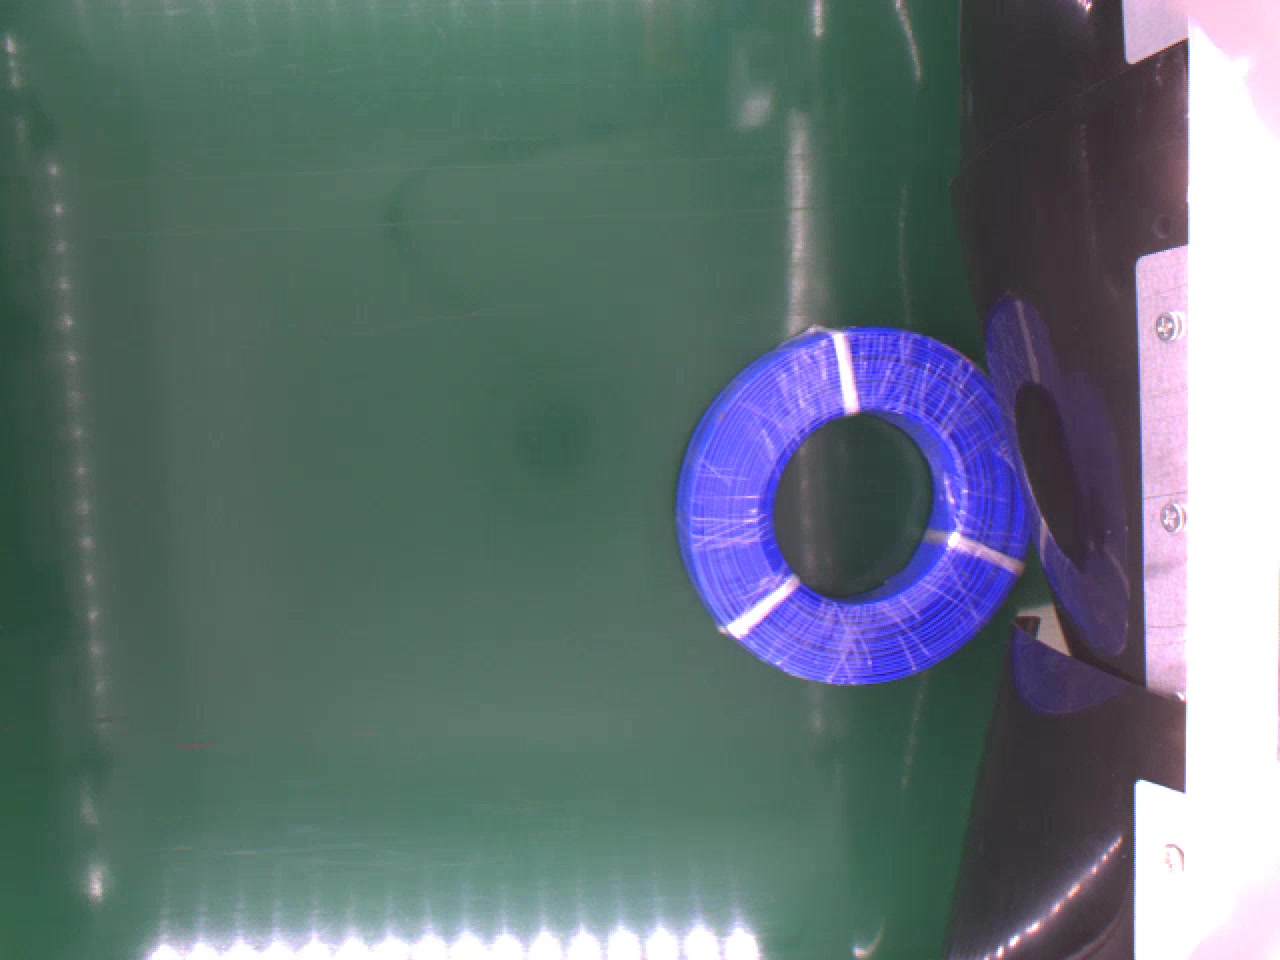blue: (676, 320, 1032, 689)
